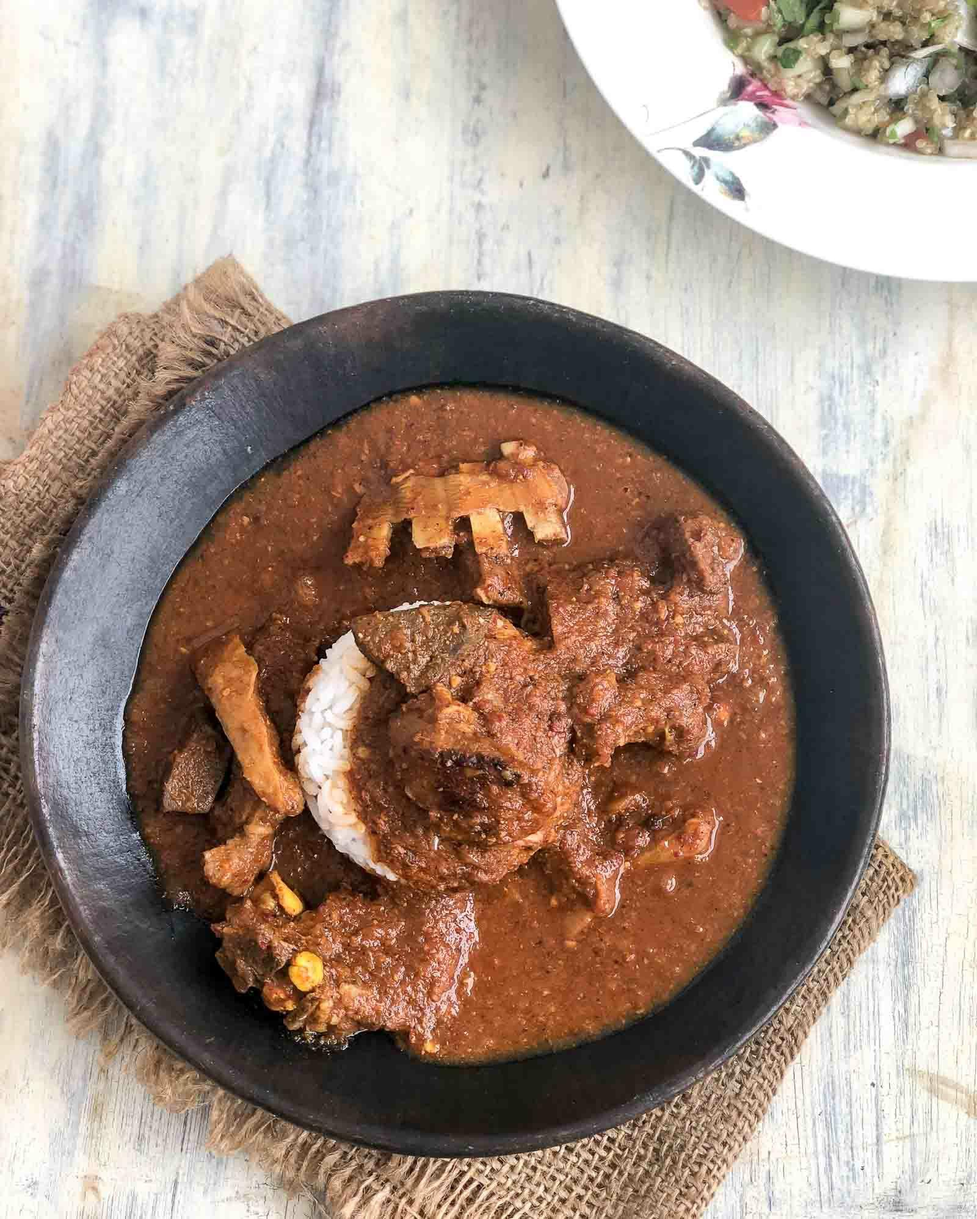MuttonCurry: (129, 385, 793, 1056)
